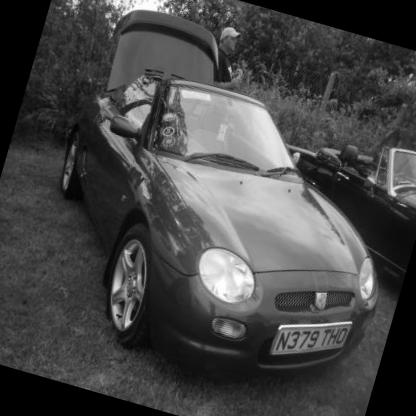car: (1, 1, 416, 416)
